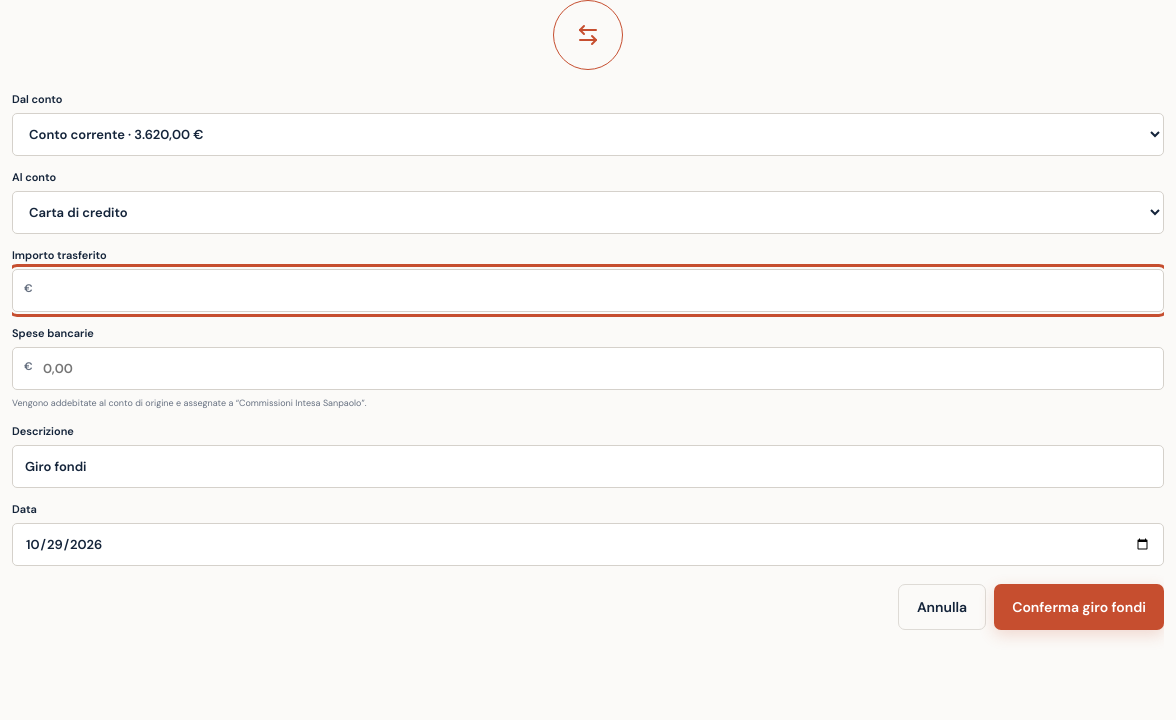
TransferForm › rifiuta spese bancarie negative
In the field labelled "Importo": [588, 290] box left=12, top=269, right=1164, bottom=312, type "100"
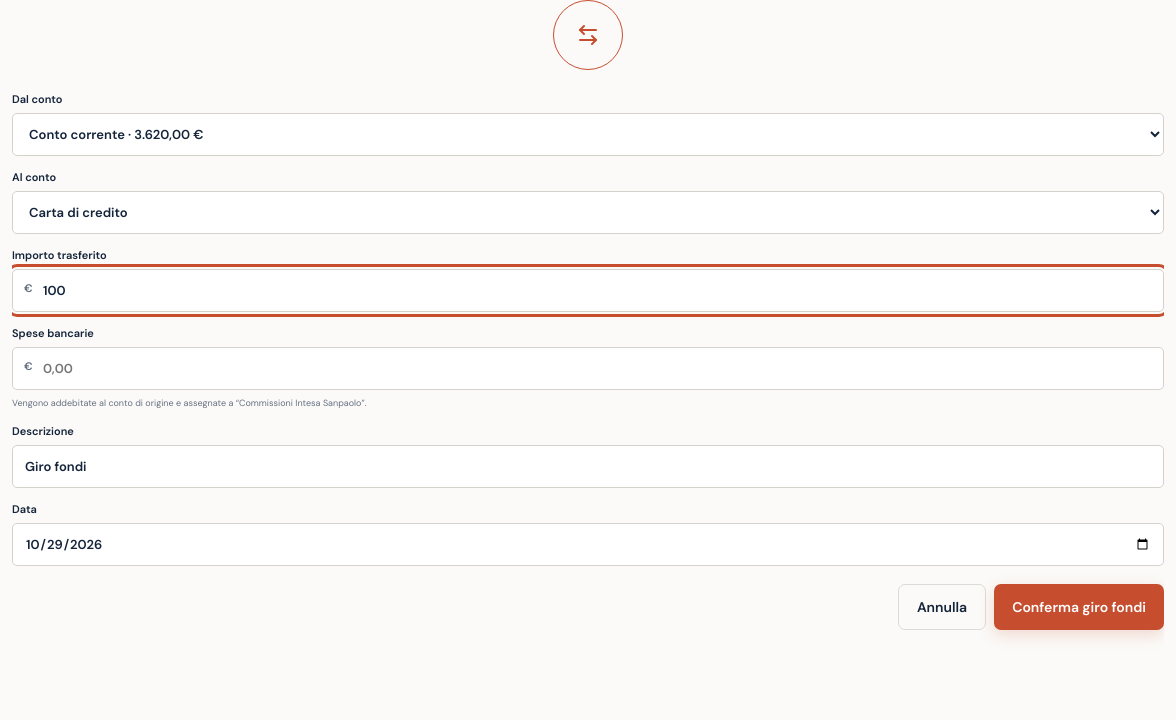
In the field labelled "Spese bancarie": [588, 368] box left=12, top=347, right=1164, bottom=390, type "-1"
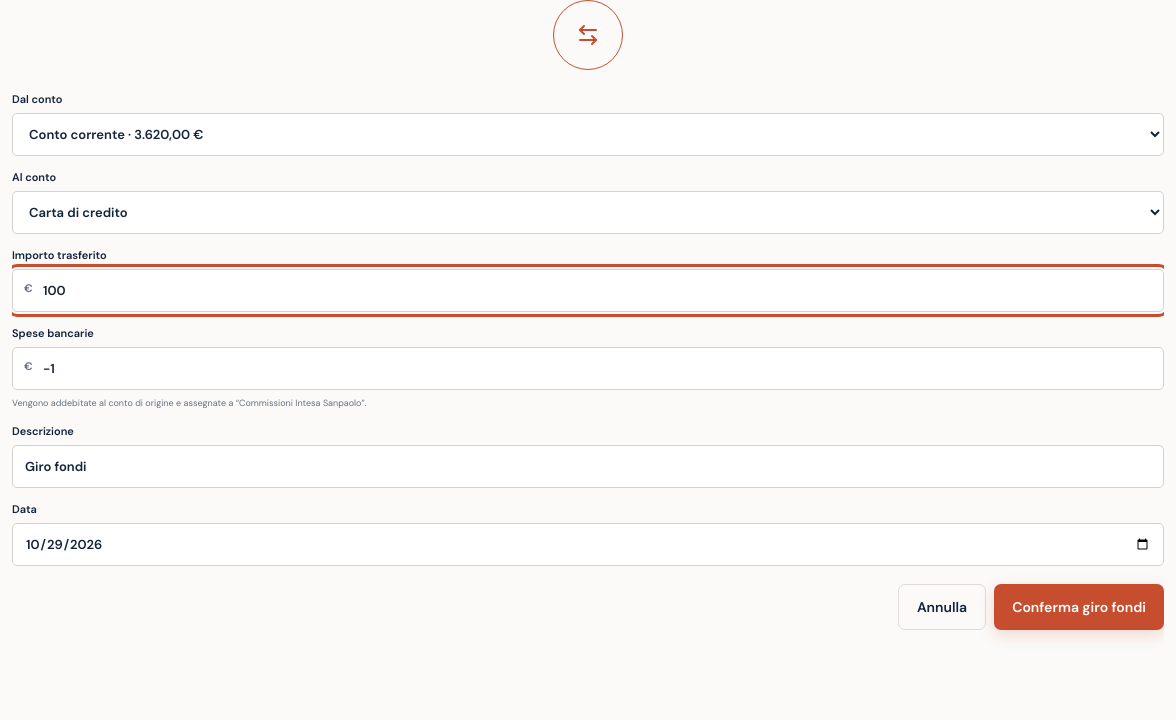
Click the button "Conferma giro fondi": [1079, 607] box left=994, top=584, right=1164, bottom=630
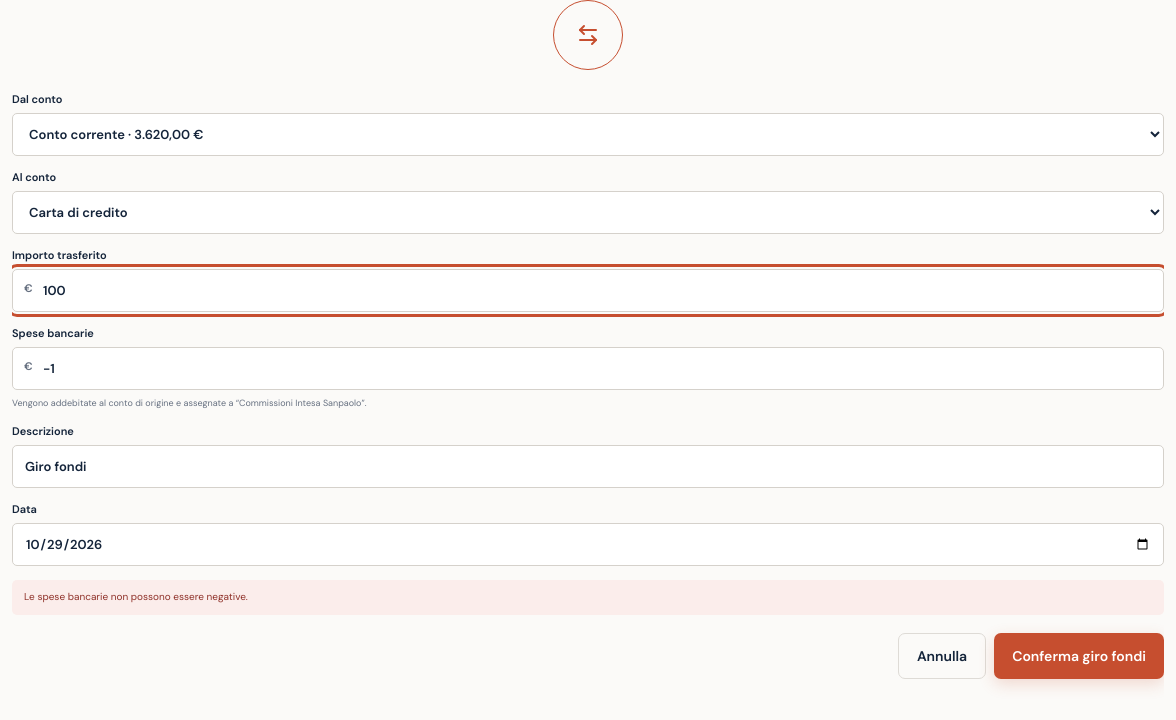
Expected: the message shows "non possono essere negative", left=24, top=590, right=248, bottom=603
